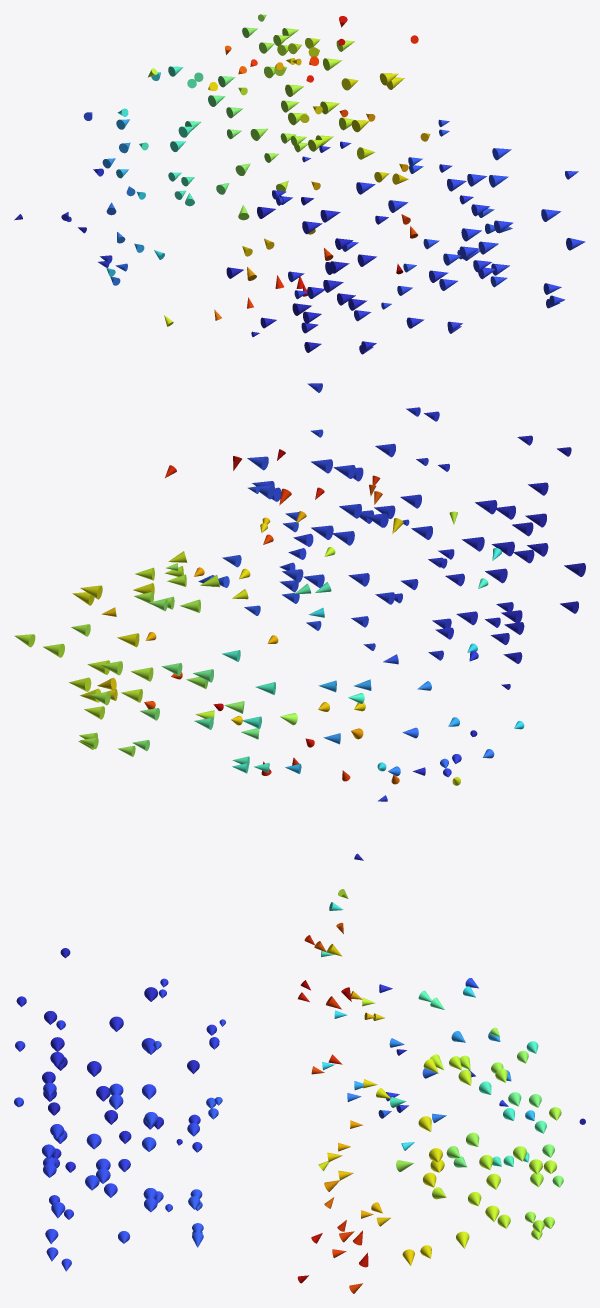
File: LineasCorrienteN2-H2O_mh2-6.88_V-0.9.glb
3 renders of one model, top to bottom at view 1: azimuth 30°, elevation 25°; view 2: azimuth 150°, elevation 25°; view 3: azimuth 270°, elevation 25°, orthographic. The views are drawn at different scales.
Size of the model in its own units: 0.000974 by 0.000707 by 0.00123.
2 materials, 2 textured.
